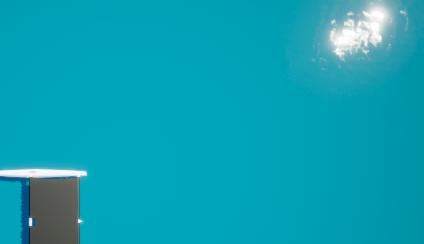boat: (0, 169, 92, 244)
drone: (30, 177, 79, 244)
land_base: (283, 1, 424, 76)
